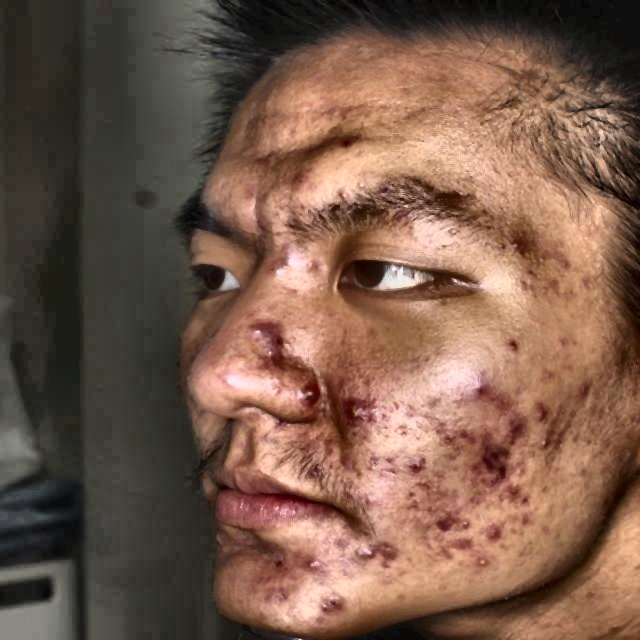papule: (341, 397, 388, 442), (278, 378, 322, 416), (237, 309, 278, 349), (369, 536, 404, 574), (469, 440, 511, 470), (426, 424, 470, 451), (312, 588, 348, 620), (550, 250, 588, 280), (328, 130, 363, 160), (494, 483, 530, 512), (497, 232, 535, 259), (268, 242, 298, 275), (532, 360, 564, 390), (498, 416, 527, 446), (535, 438, 561, 468), (579, 378, 605, 407), (298, 254, 328, 279), (493, 332, 519, 360), (522, 401, 550, 427), (236, 187, 272, 207), (295, 550, 319, 579), (459, 376, 500, 392), (344, 540, 364, 572), (483, 524, 511, 544), (399, 452, 420, 477), (487, 397, 519, 411), (550, 333, 574, 351), (469, 554, 492, 572), (286, 180, 316, 191), (460, 519, 481, 532)
